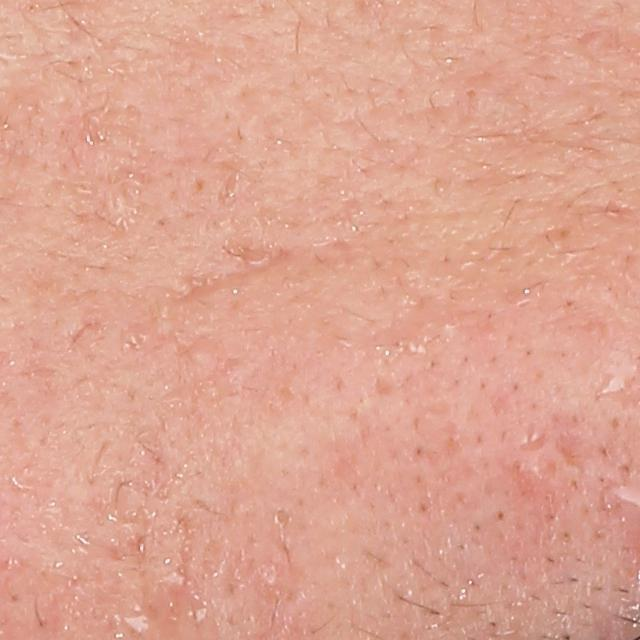comedo: (268, 506, 293, 530)
